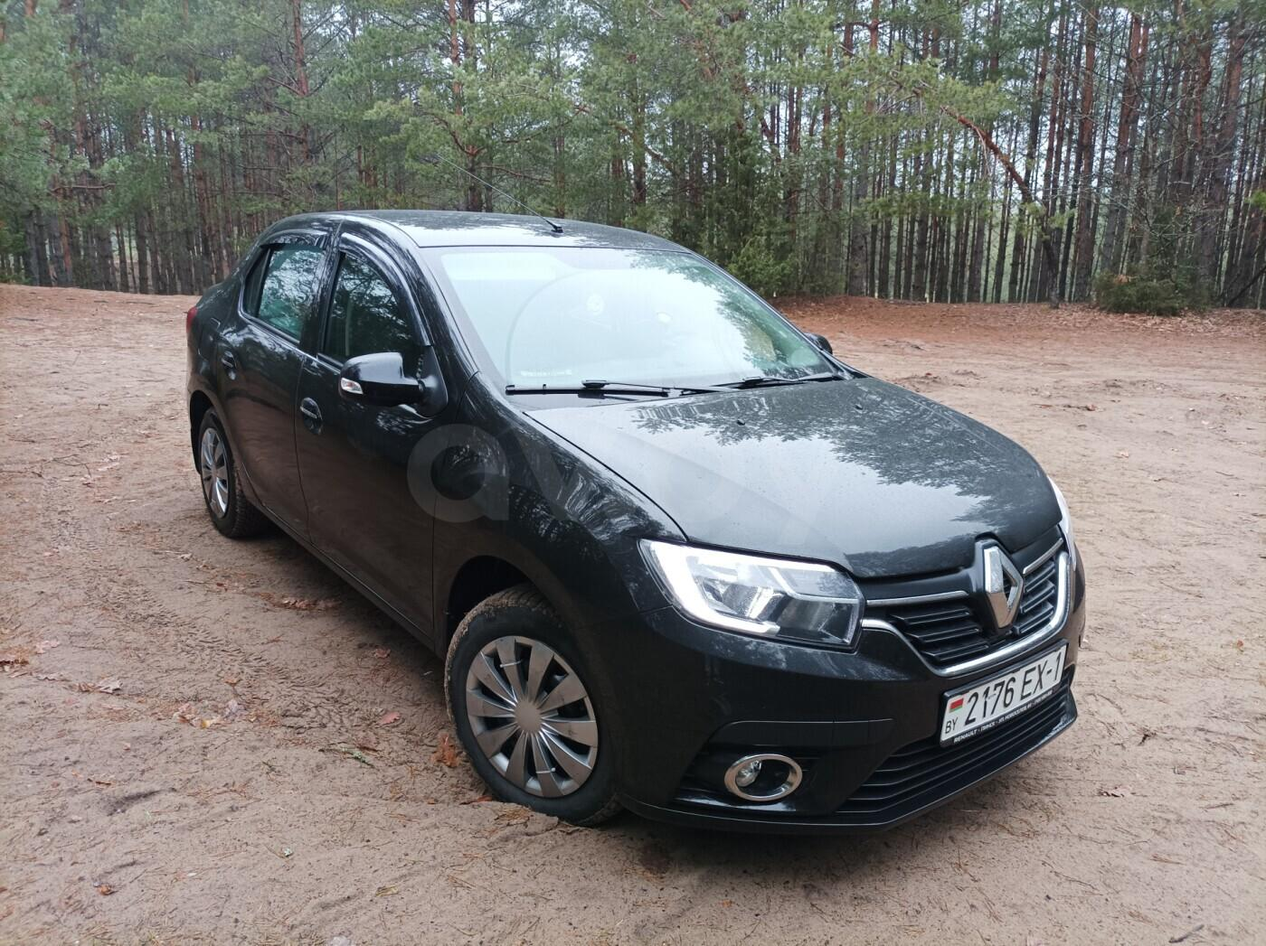Logan_2018: (183, 197, 1092, 848)
